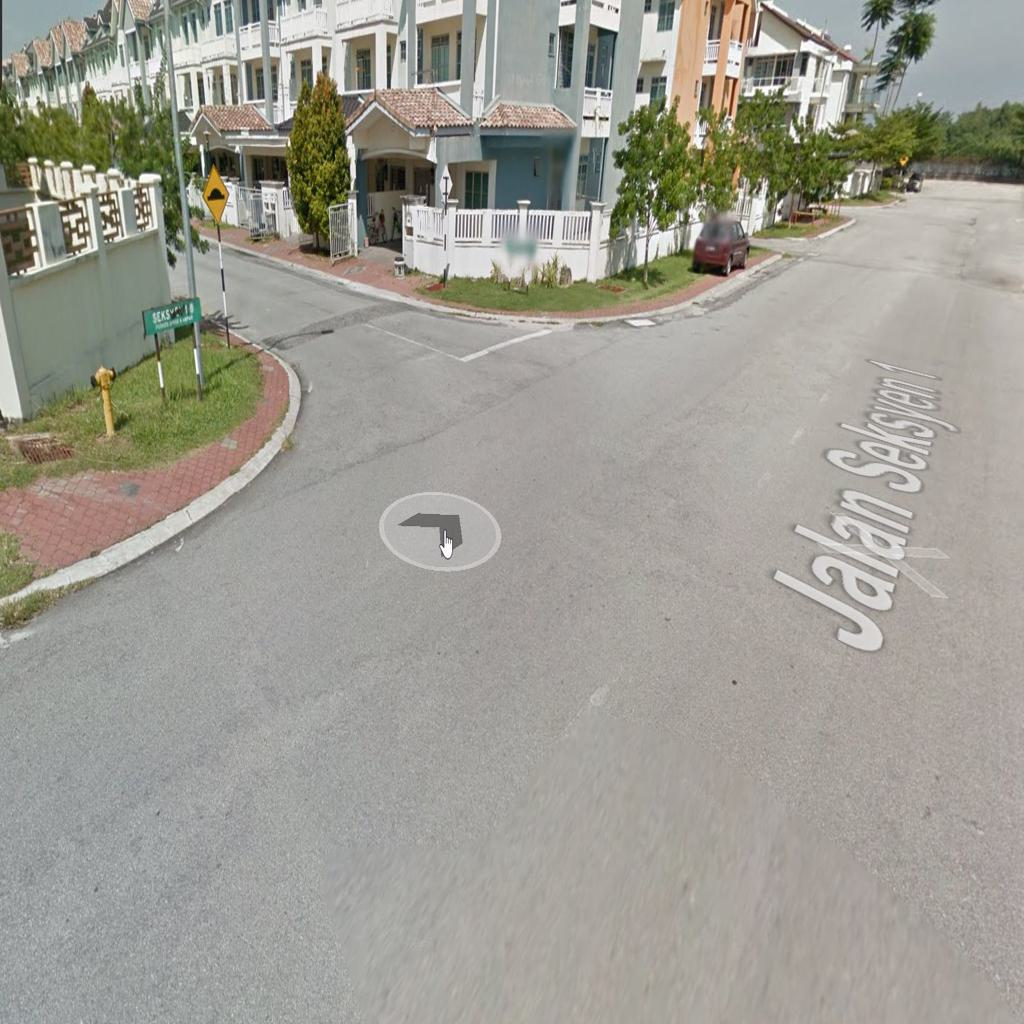Junction: (195, 248, 577, 480)
